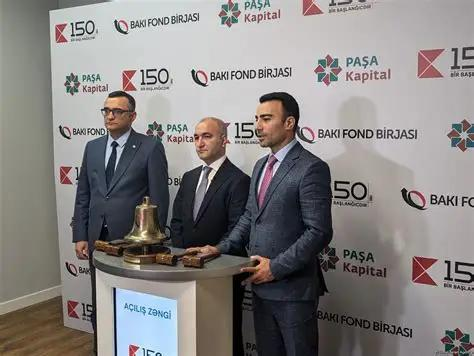Kapital Bank: (416, 46, 447, 78), (409, 254, 439, 287), (121, 67, 138, 92), (53, 22, 69, 44), (58, 165, 73, 186), (66, 299, 79, 319)
